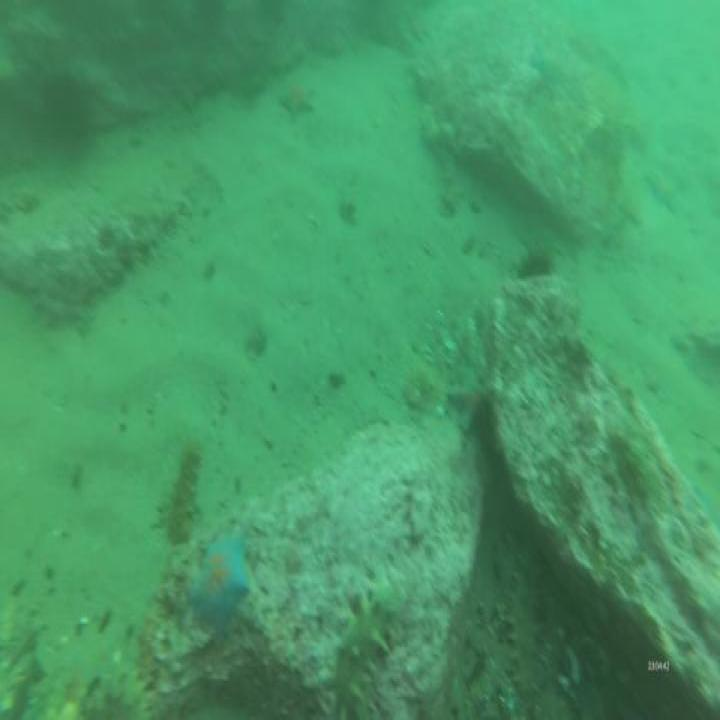echinus: (38, 69, 94, 160)
holothurian: (334, 580, 399, 711), (505, 535, 546, 697), (165, 439, 204, 537), (77, 675, 150, 720)
starfish: (192, 535, 249, 633), (451, 366, 489, 436), (281, 76, 313, 121)
